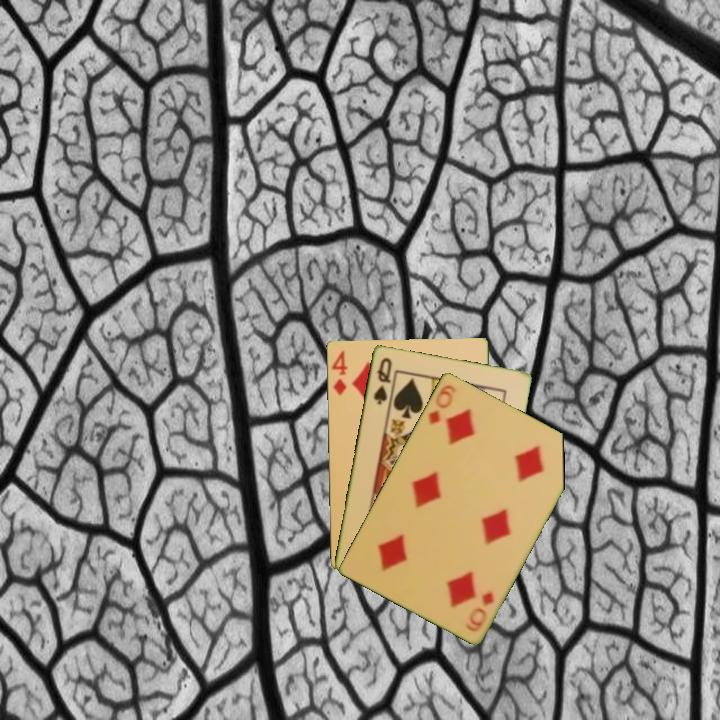4d: (328, 347, 350, 398)
6d: (425, 381, 459, 427), (465, 588, 497, 629)
Qs: (370, 354, 394, 407)
